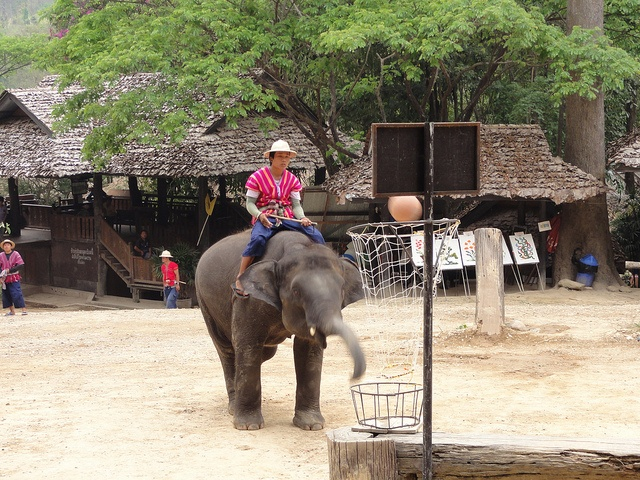elephant: (191, 229, 369, 430)
